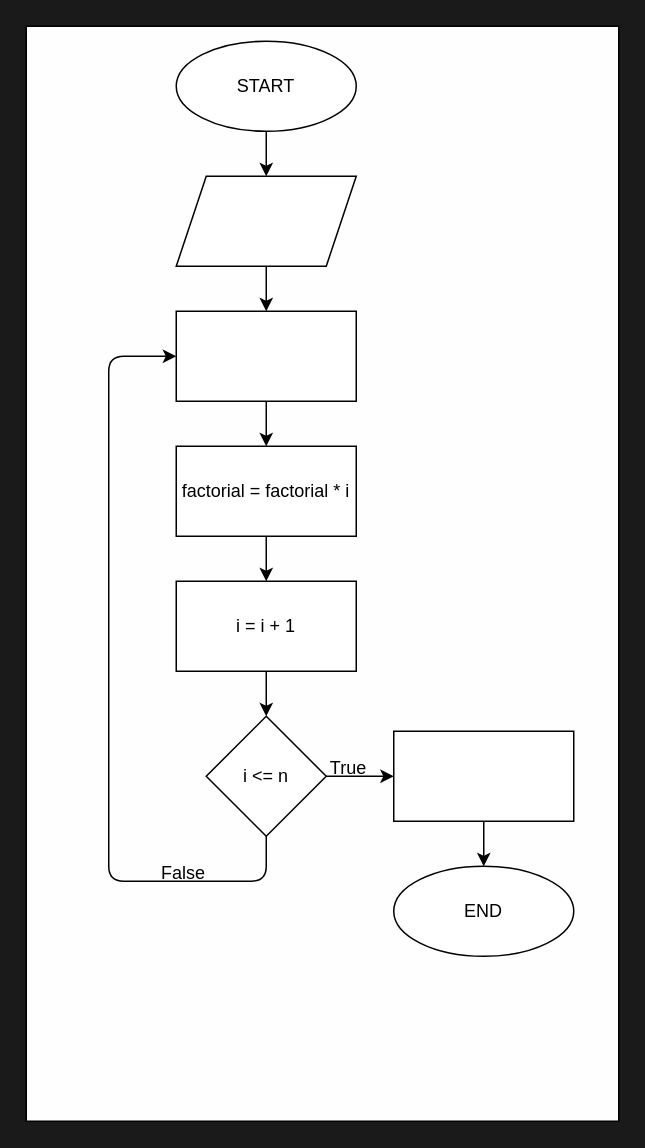
Image size: 645x1148. Some labels were removed from this diagram. Each missing label, with the centre of its shape:
"factorialLoop" belongs at pixel 265 355.
"integer n integer factorial integer i" belongs at pixel 265 220.
"print factorial" belongs at pixel 483 775.
